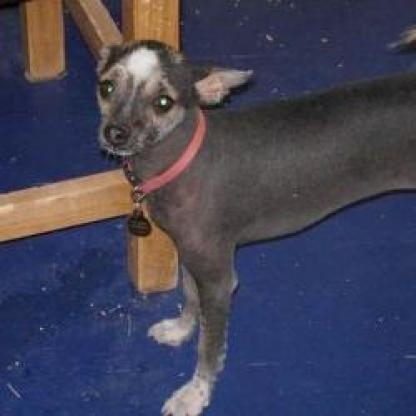Mexican_hairless: (87, 30, 413, 413)
